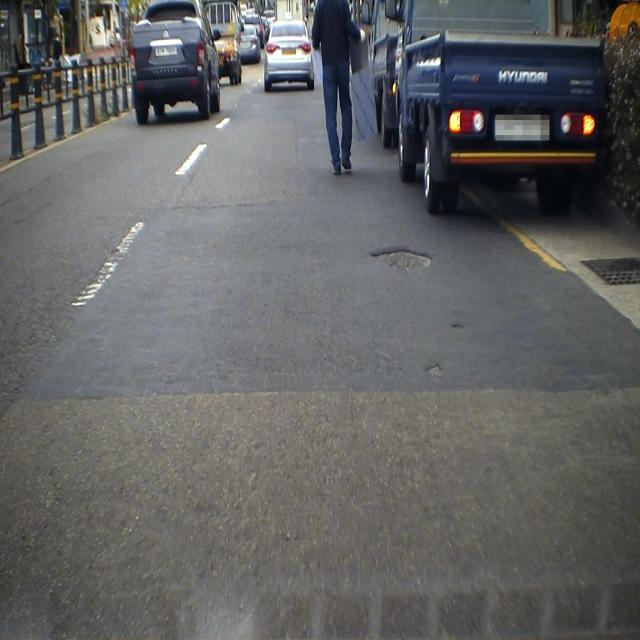Pothole: (366, 239, 434, 274), (425, 354, 446, 384)
